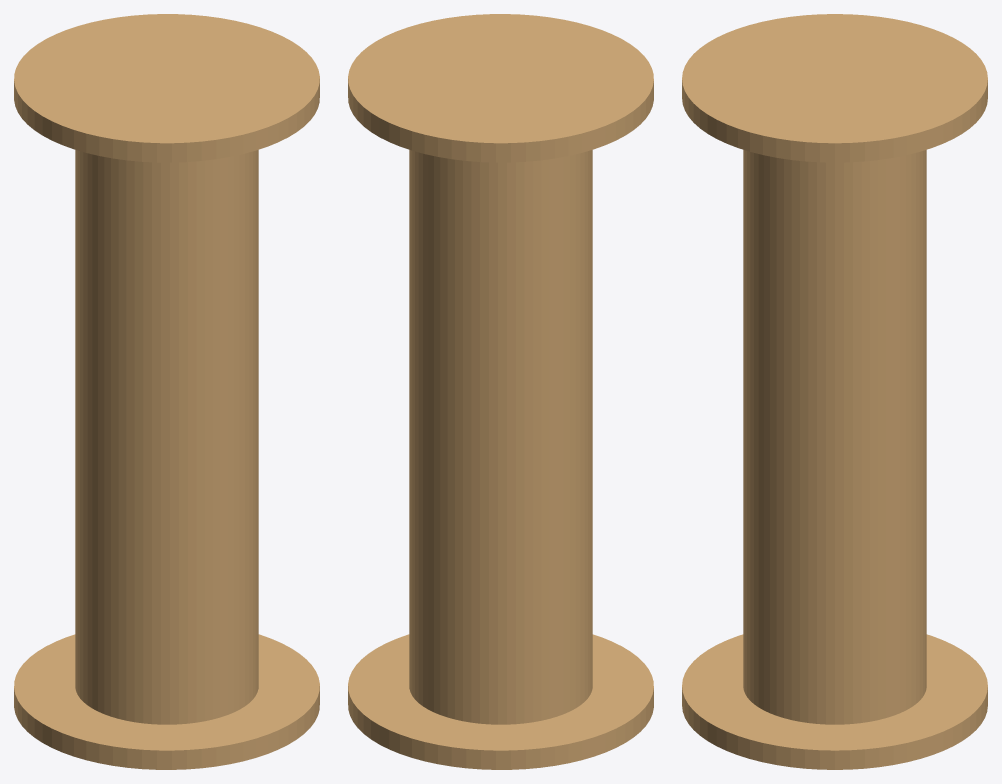
File: board.glb
3 views of the same model, side by side, from view 1: azimuth 30°, elevation 25°; view 2: azimuth 150°, elevation 25°; view 3: azimuth 270°, elevation 25° (orthographic).
Parts seen in each view (by area): view 1: Bare_Via_Tube_0, Unified_Net_1_Island_0 (×2); view 2: Bare_Via_Tube_0, Unified_Net_1_Island_0 (×2); view 3: Bare_Via_Tube_0, Unified_Net_1_Island_0 (×2).
Boxes of the visible parts, x1=… form: Bare_Via_Tube_0: x1=75, y1=150, x2=258, y2=724; Unified_Net_1_Island_0 (×2): x1=14, y1=14, x2=319, y2=769; Bare_Via_Tube_0: x1=409, y1=150, x2=592, y2=724; Unified_Net_1_Island_0 (×2): x1=348, y1=14, x2=653, y2=769; Bare_Via_Tube_0: x1=743, y1=150, x2=926, y2=724; Unified_Net_1_Island_0 (×2): x1=682, y1=14, x2=987, y2=769.
Size of the model in its own units: 0.0005 by 0.00113 by 0.0005.
